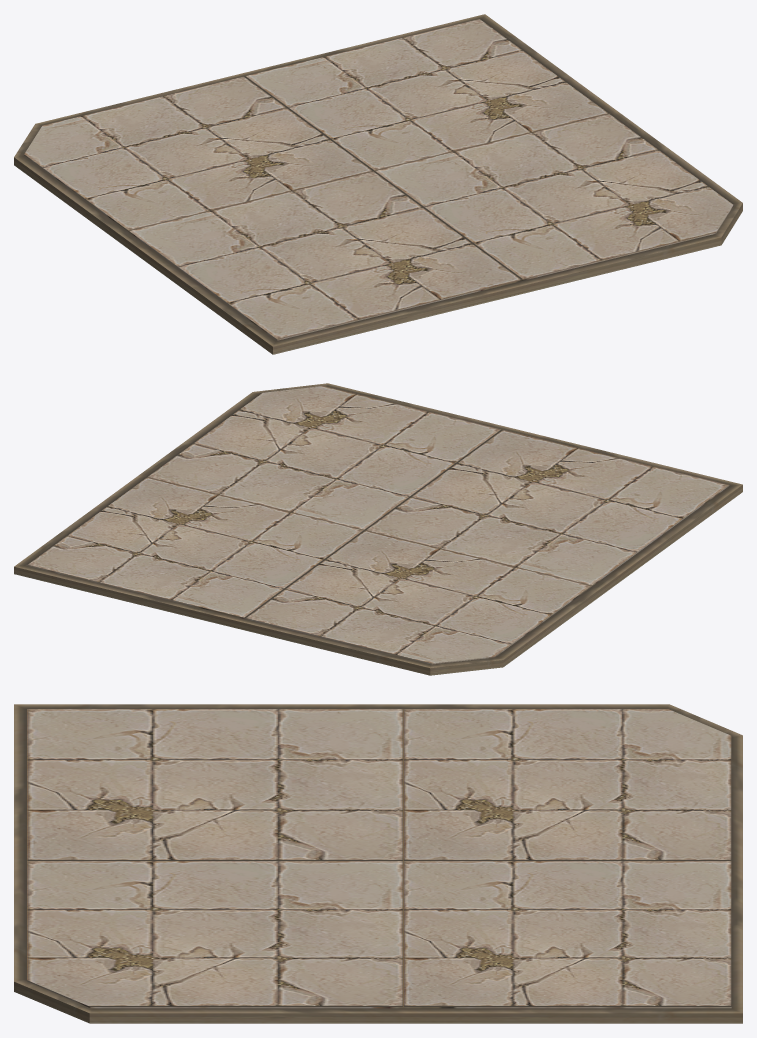
Rendered from Ground02_Terrain_LostTemple_A.FBX.
3 views of the same model, one above another, from view 1: azimuth 30°, elevation 25°; view 2: azimuth 150°, elevation 25°; view 3: azimuth 270°, elevation 25° (orthographic). The views are drawn at different scales.
Parts seen in each view (by area): view 1: Ground02_Terrain_LostTemple_A; view 2: Ground02_Terrain_LostTemple_A; view 3: Ground02_Terrain_LostTemple_A.
Boxes of the visible parts, x1,y1,x2,y2 form: Ground02_Terrain_LostTemple_A: (14,14,742,354); Ground02_Terrain_LostTemple_A: (14,383,742,675); Ground02_Terrain_LostTemple_A: (14,704,742,1023).
Size of the model in its own units: 298 by 5.17 by 297.
Materials: 1 (1 with a texture image).
